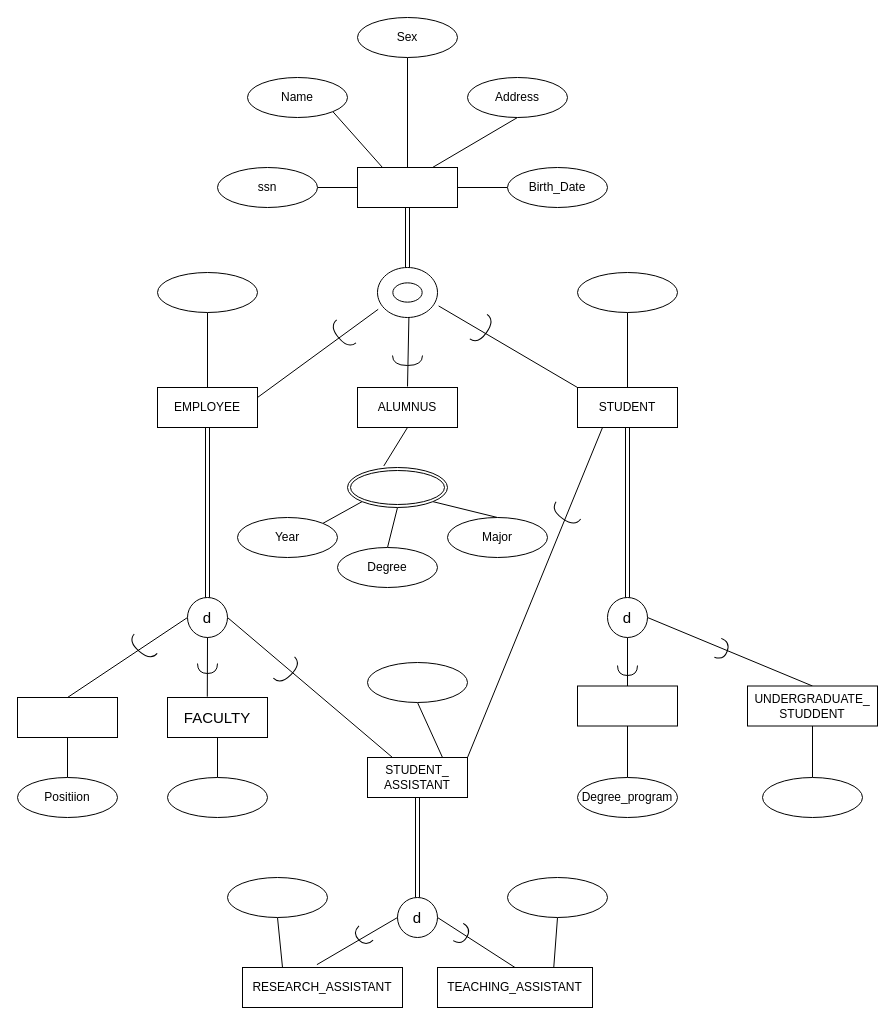
The diagram is 895 pixels wide and 1025 high, and some of its shapes have lost their labels. The centre of each missing label's shape, as x and y in pixels:
"Class" goes at (x=812, y=797).
"Course" goes at (x=557, y=897).
"Degrees" goes at (x=397, y=487).
"GRADUATE_ STUDENT" goes at (x=627, y=705).
"Major_Dept" goes at (x=627, y=292).
"Percent_time" goes at (x=417, y=682).
"PERSON" goes at (x=407, y=187).
"Project" goes at (x=277, y=897).
"Rank" goes at (x=217, y=797).
"Salary" goes at (x=207, y=292).
"STAFF" goes at (x=67, y=717).
